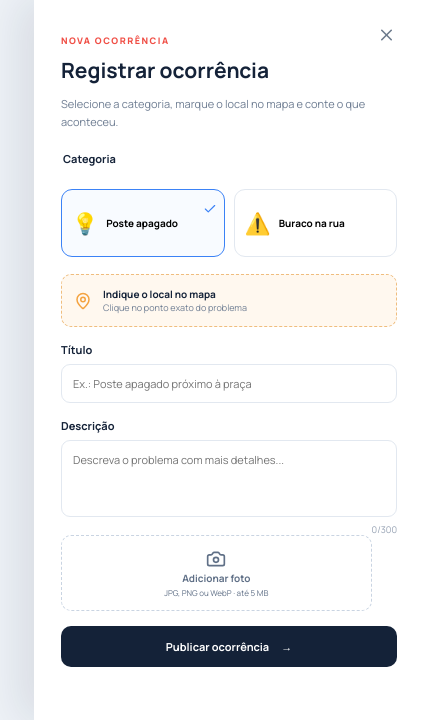
it: fluxo do formulário de ocorrência › exige marcar um ponto no mapa antes de publicar
This screenshot has width=424, height=720.
Type "Poste sem luz" into the field with placeholder "Ex.: Poste apagado próximo à praça".
click(229, 384); type("Poste sem luz")  # box [61, 364, 397, 403]
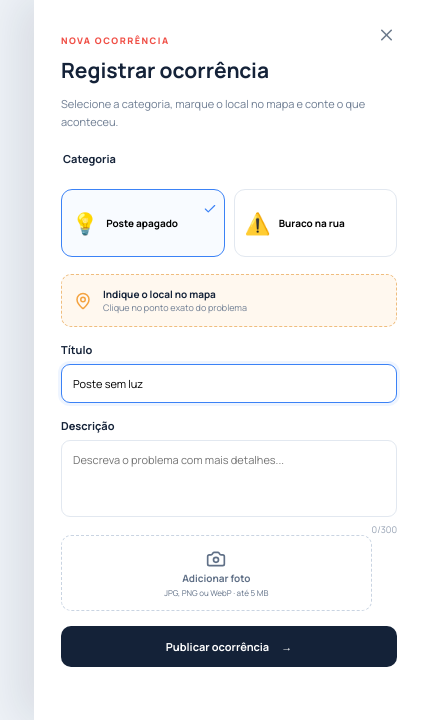
Type "O trecho está escuro." into the text box with placeholder "Descreva o problema com mais detalhes...".
click(229, 479); type("O trecho está escuro.")  # box [61, 440, 397, 517]
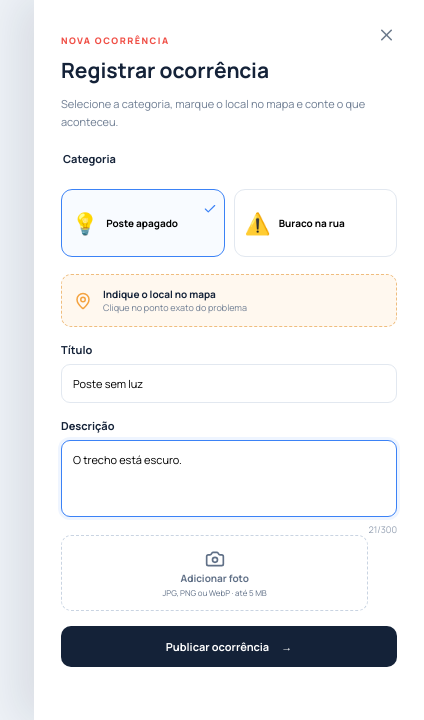
Click the button "Publicar ocorrência →".
click(229, 647)  # box [61, 626, 397, 667]
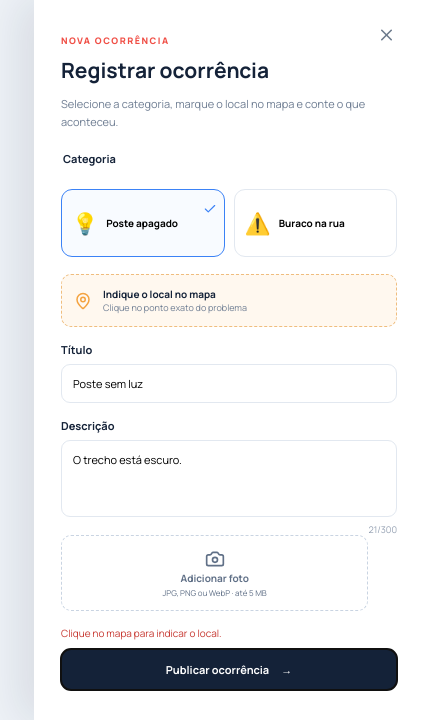
Expected: the message reads "Clique no mapa para indicar o local.", [61, 626, 222, 640]
